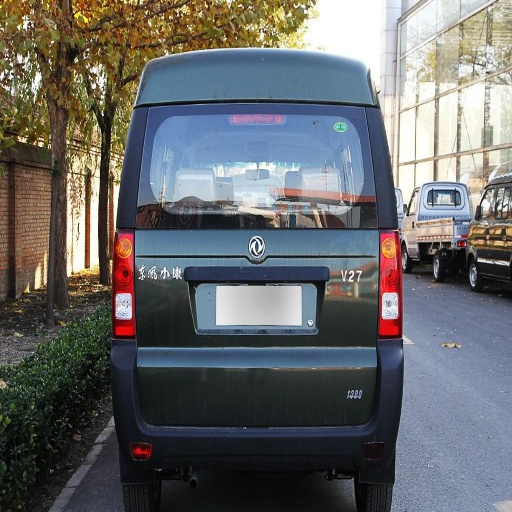back_bumper: (113, 340, 405, 470)
tailgate: (120, 188, 378, 352)
trunk: (134, 212, 380, 417)
